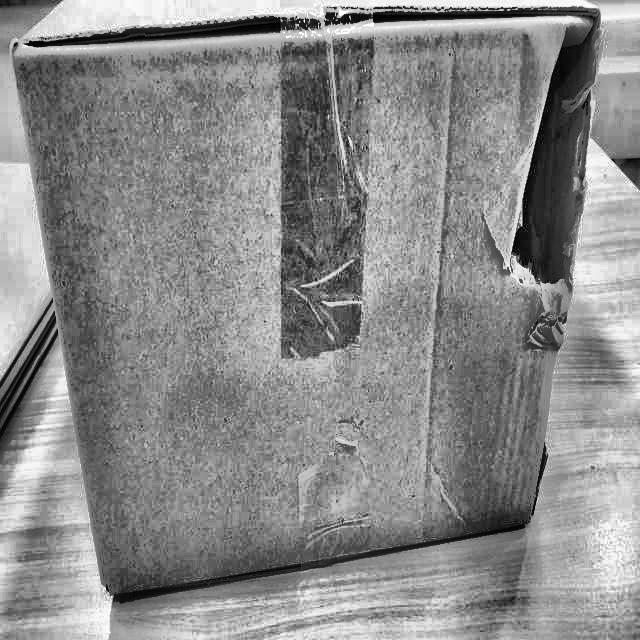box: (4, 2, 614, 615)
hole: (505, 26, 596, 306)
